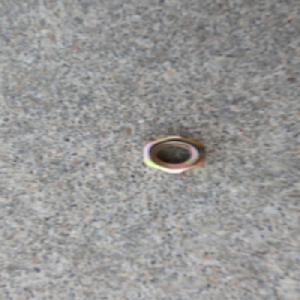Nut: (139, 134, 207, 175)
